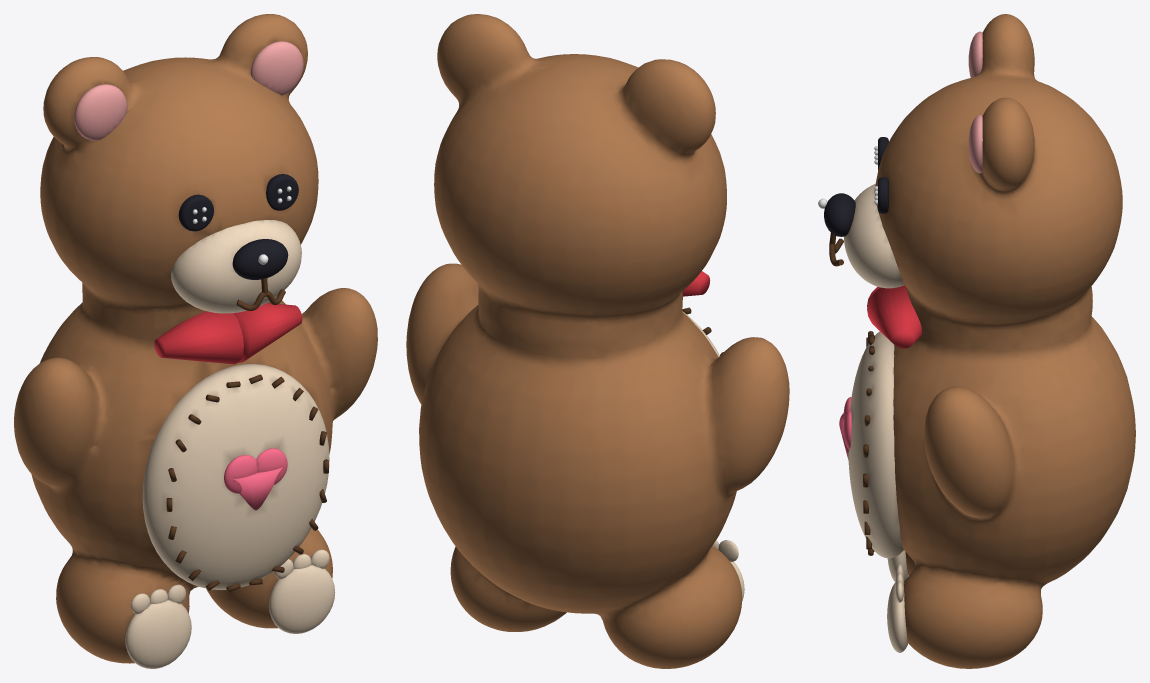
File: bear.glb
The picture shows the model from 3 angles, left to right: view 1: azimuth 30°, elevation 25°; view 2: azimuth 150°, elevation 25°; view 3: azimuth 270°, elevation 25°; orthographic projection. The views are drawn at different scales.
Visible parts, largest first — view 1: Bear.001; view 2: Bear.001; view 3: Bear.001.
Boxes of the visible parts, <box> form: Bear.001: <box>14,14,377,668</box>; Bear.001: <box>406,14,789,668</box>; Bear.001: <box>818,14,1135,668</box>.
Bounding box in the file's own units: 1.08 × 1.72 × 0.8705.
